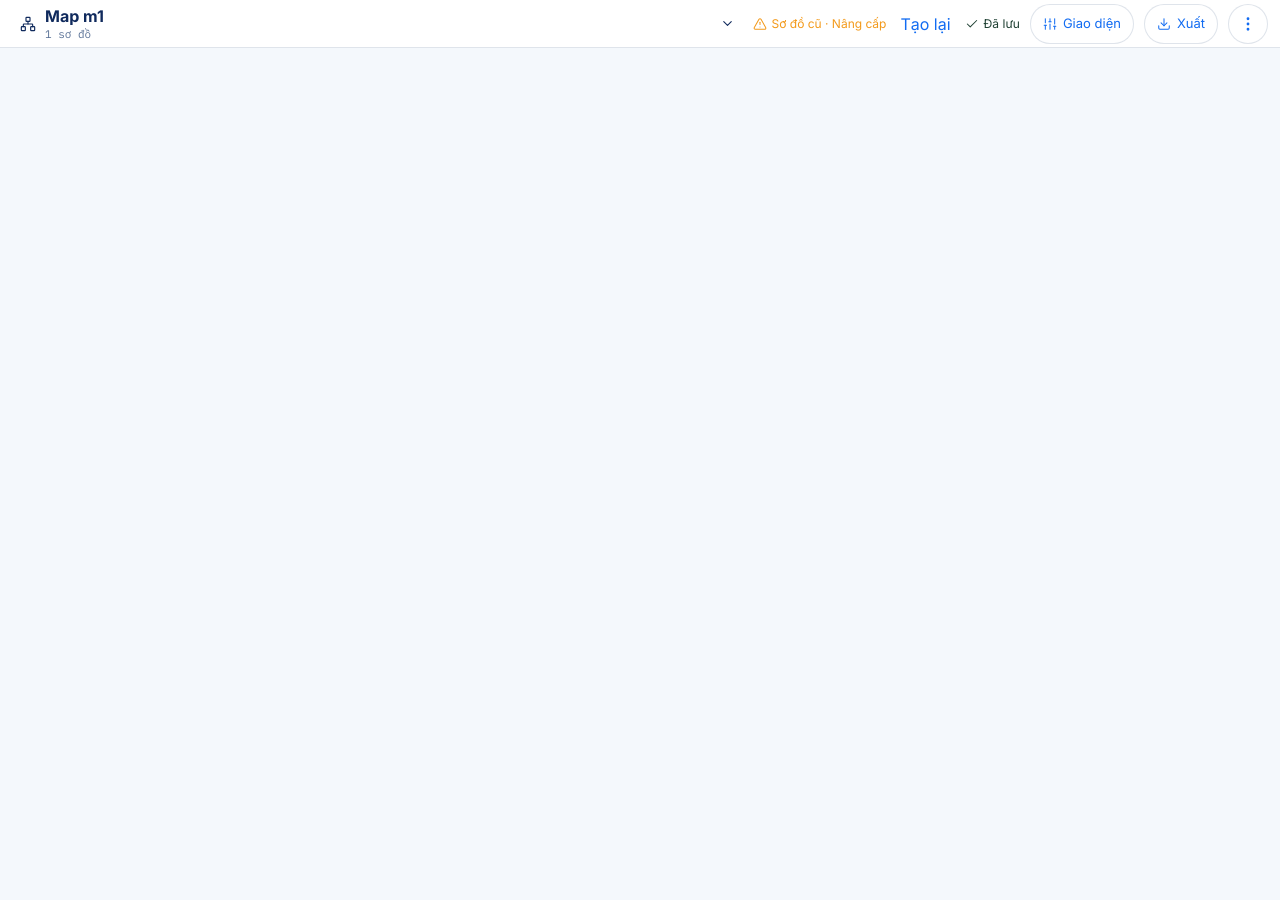
Export Studio — ceiling-exceeded warning surfaces to the user (H2) › RED: job done with a detail_pages_skipped_ceiling_exceeded warning shows the Vietnamese banner, job stays usable
The width and height of the screenshot is (1280, 900).
Click the button with aria-label "Xuất sơ đồ" at (1181, 24), box [1144,4,1218,44]
(page scrolled)
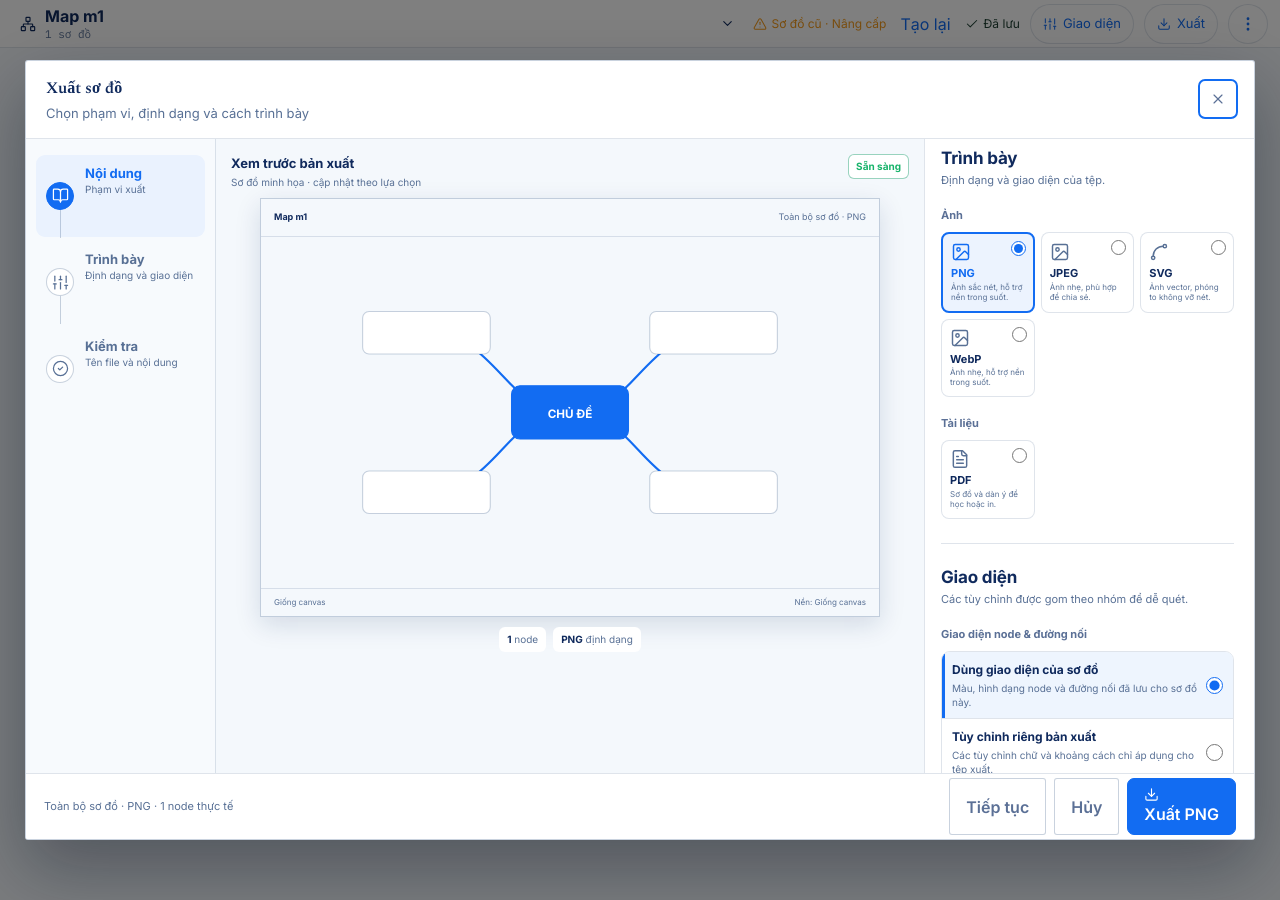
Click the radio button named "mm-export-format" at (1019, 456), box [1012,448,1027,463]
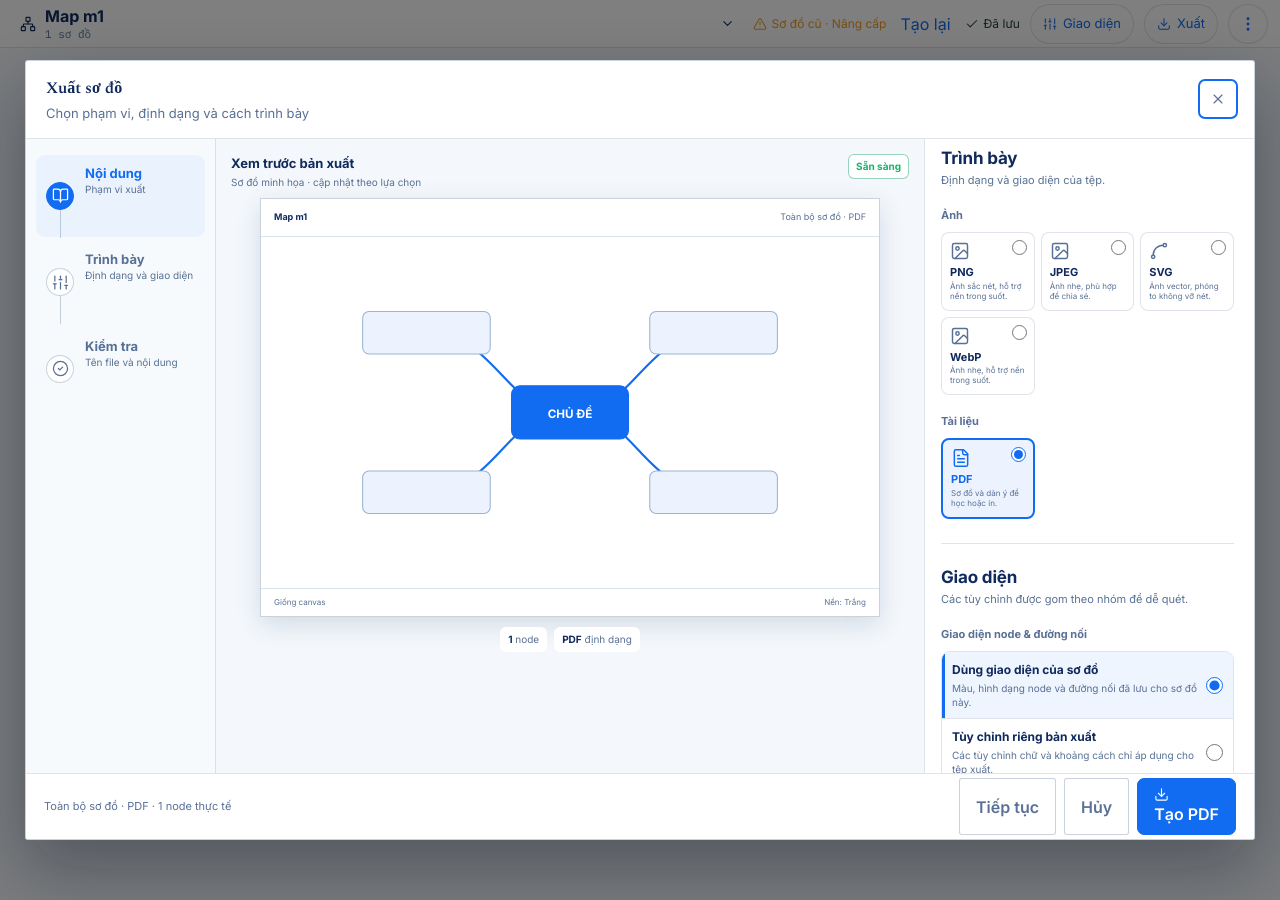
Click the button "Tạo PDF" at (1187, 806), box [1137,778,1236,835]
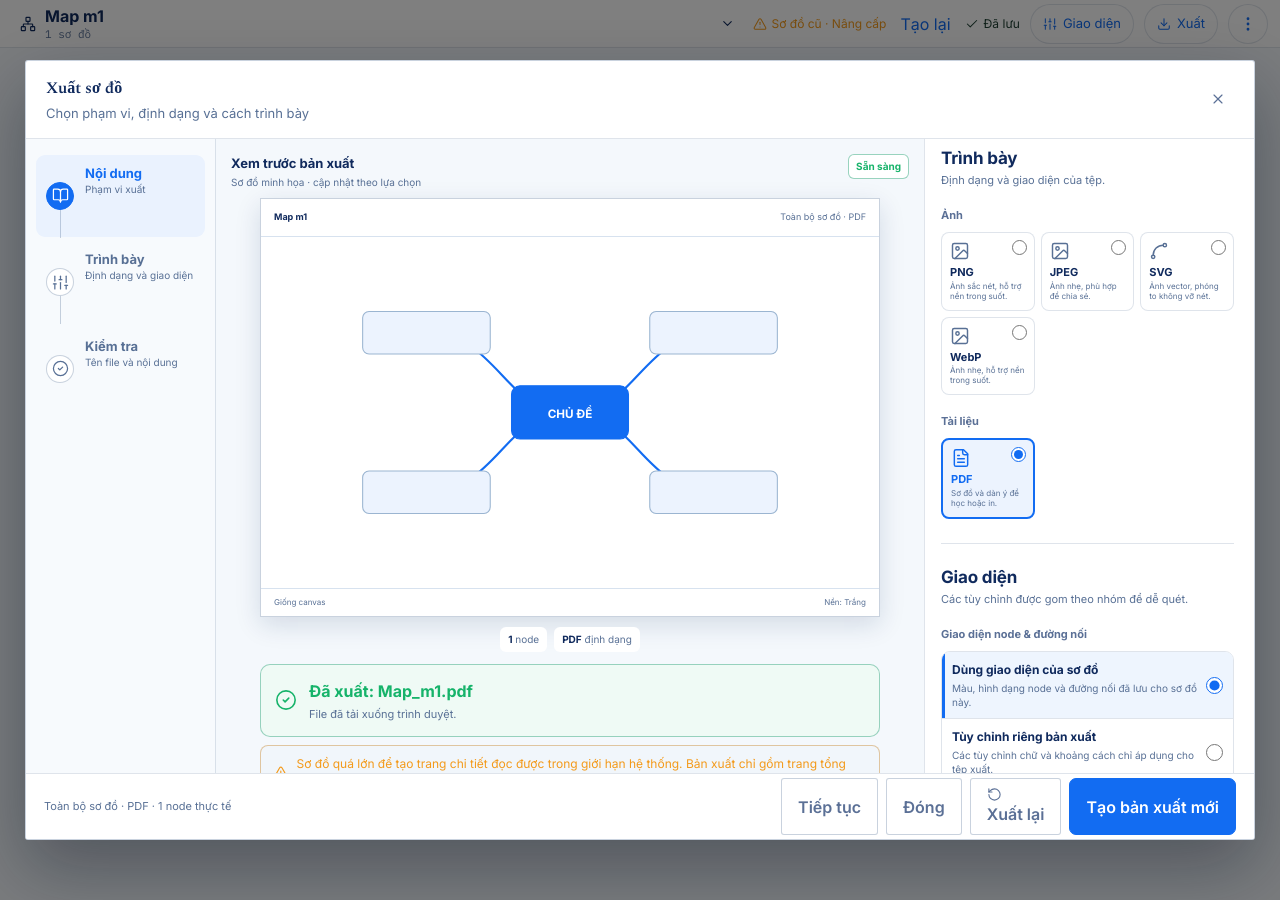
Expected: the dialog shows "Sơ đồ quá lớn để tạo trang chi tiết đọc được trong giới hạn hệ thống", [297,756,846,788]
Expected: the dialog shows "Đã xuất", [309,681,378,701]
Expected: the button "Xuất lại" is enabled, [970,778,1062,835]
